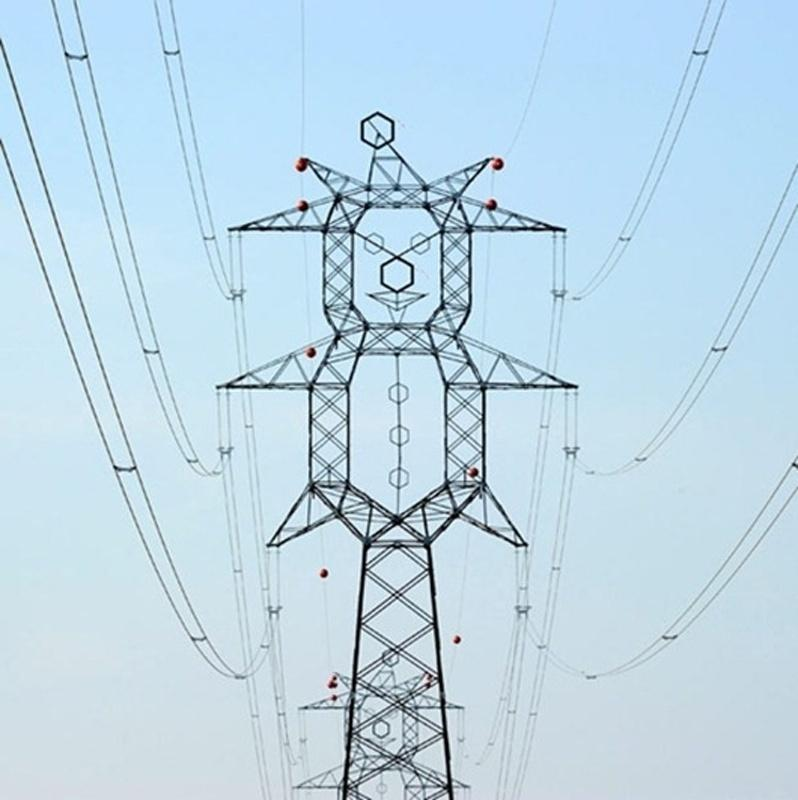power_tower: (214, 115, 580, 798), (292, 664, 472, 800)
